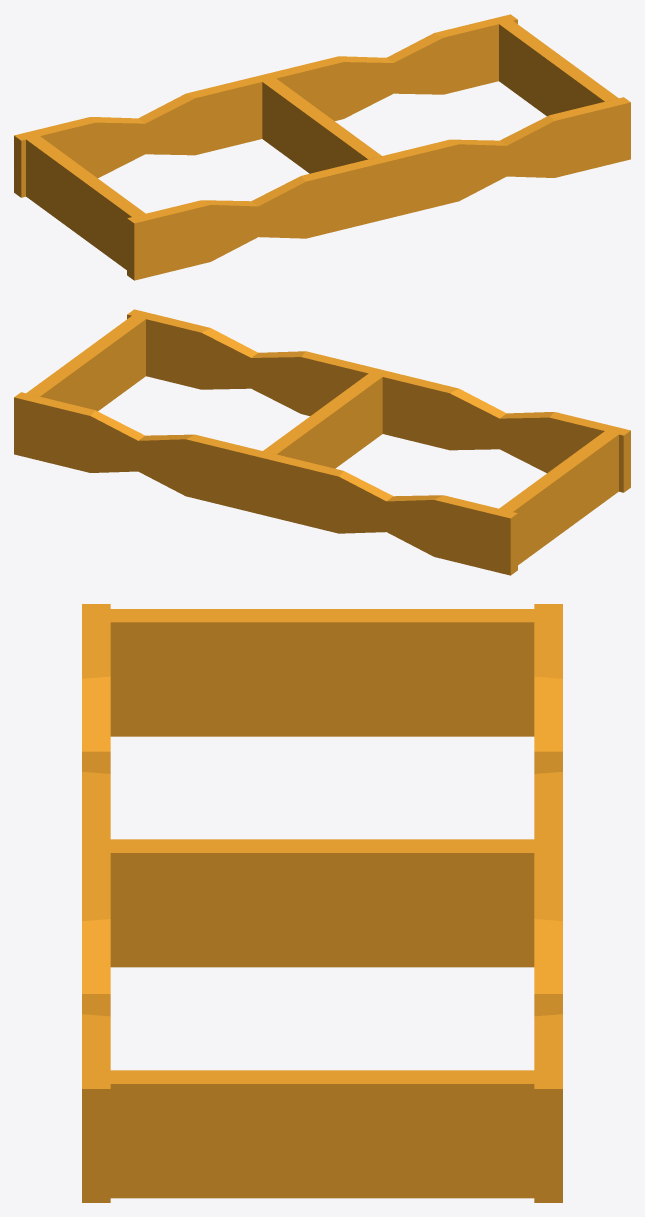
Rendered from SM_Barrel_Stand_2m_Empty.fbx.
3 views of the same model, one above another, from view 1: azimuth 30°, elevation 25°; view 2: azimuth 150°, elevation 25°; view 3: azimuth 270°, elevation 25° (orthographic). The views are drawn at different scales.
Visible parts, largest first — view 1: barrel-stand-2m-empty; view 2: barrel-stand-2m-empty; view 3: barrel-stand-2m-empty.
Boxes of the visible parts, x1=… form: barrel-stand-2m-empty: x1=14, y1=14, x2=630, y2=280; barrel-stand-2m-empty: x1=14, y1=309, x2=630, y2=575; barrel-stand-2m-empty: x1=82, y1=604, x2=562, y2=1202.
Size of the model in its own units: 2 by 0.22 by 0.839.
